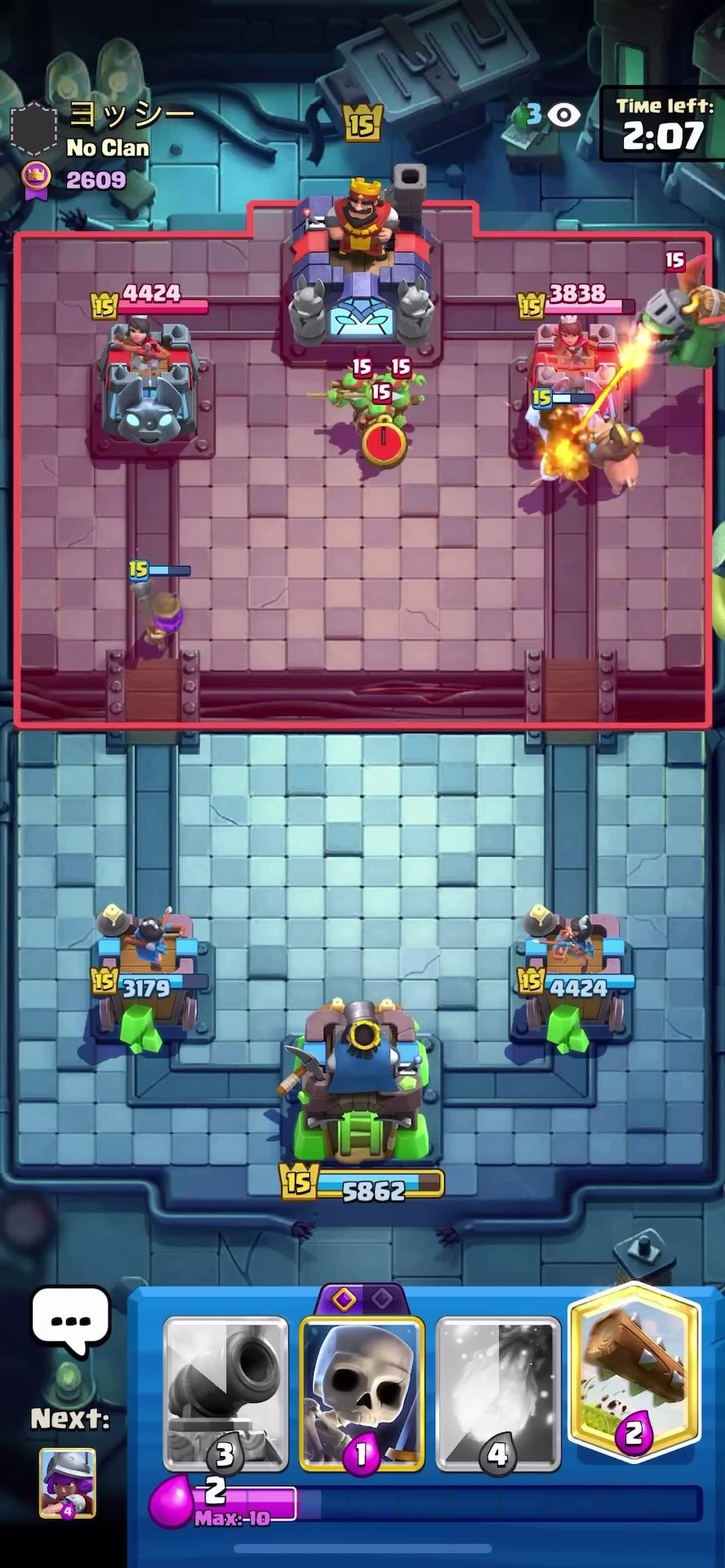hog_rider: (578, 404, 657, 506)
ice_golem: (514, 396, 618, 474)
musketeer: (129, 559, 202, 653)
